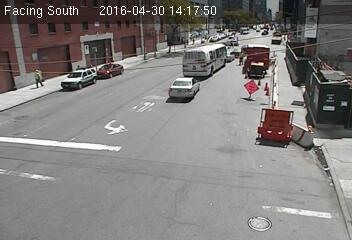neg: (276, 36, 298, 66), (183, 47, 200, 70), (278, 100, 287, 112)
pos: (27, 66, 45, 90), (233, 47, 249, 68)
